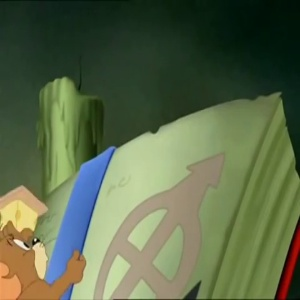Jerry: (1, 231, 51, 279)
